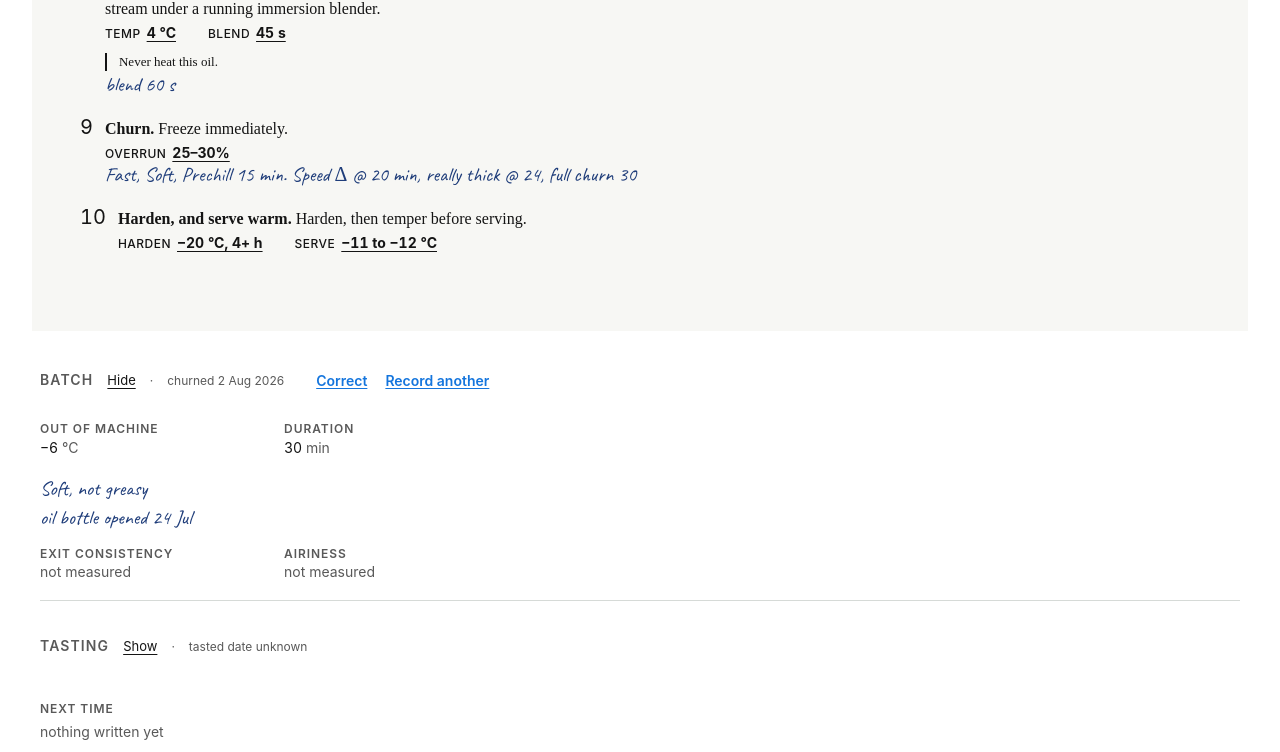
Scenario: the recipe page reads the catalog and hands it to the record pen (D-01, D-02) › Record another opens a pen whose Every recipe chips include a fifth problem the catalog holds
(page scrolled)
What coordinates should you click on to do the following:
click the button with class "batch-row__record"
I would click on:
 (437, 381)
Its box is [385,369,489,393].
(page scrolled)
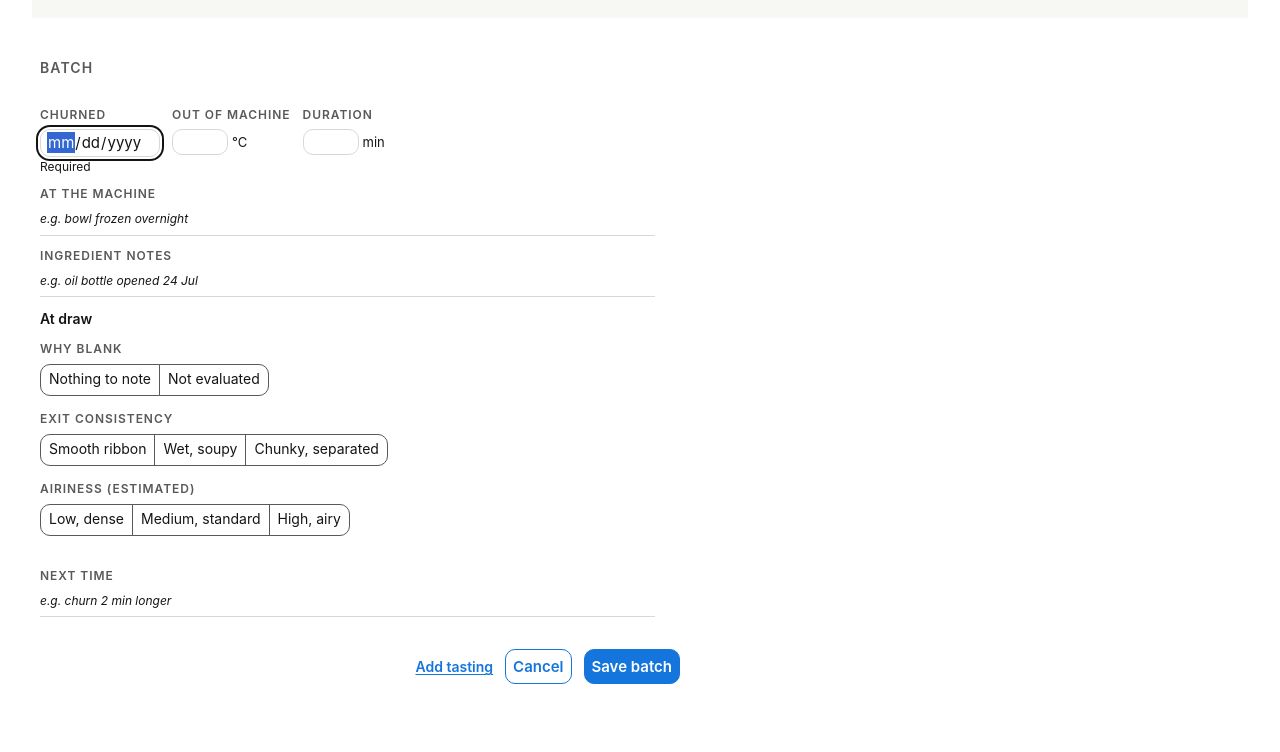
What coordinates should you click on to do the following:
click the button with class "save-ceremony__add-tasting" below "Medium, standard"
I would click on:
 (454, 667)
Its box is [416,655,493,679].
(page scrolled)
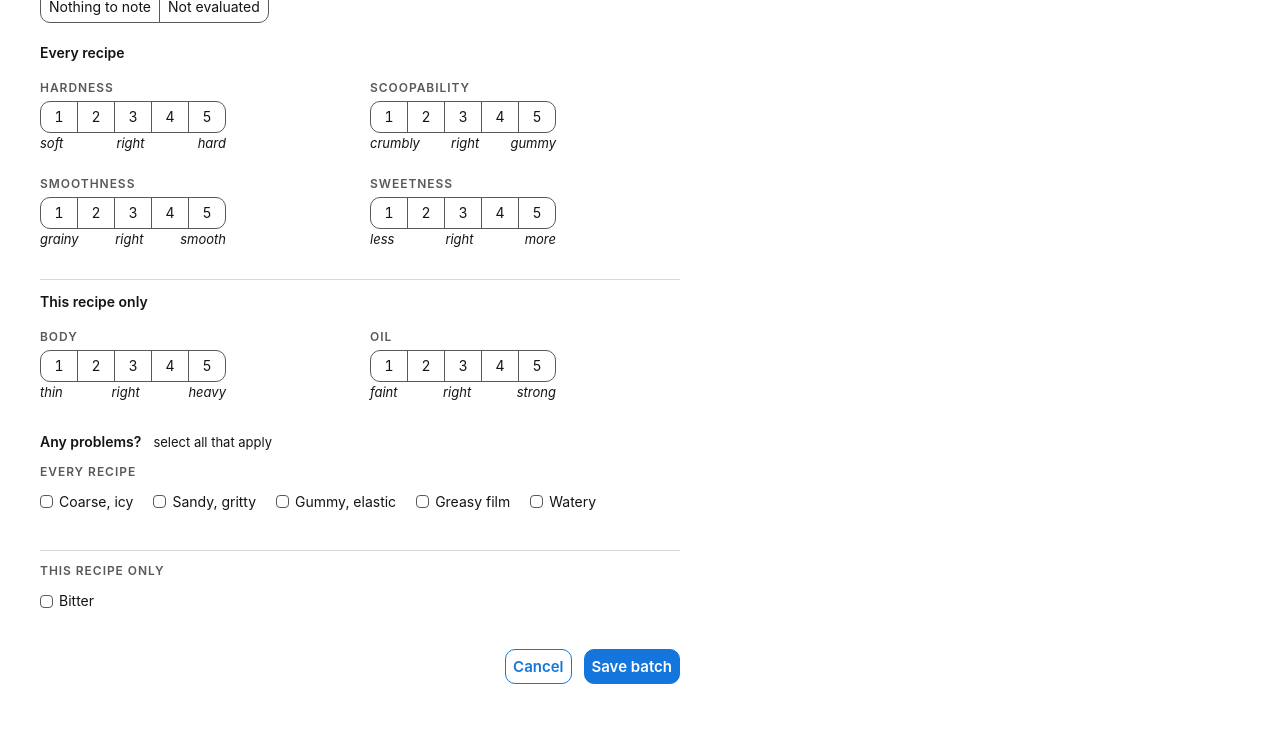
Now the button "Watery" is shown, box [530,486,596,518]
Now the button "Coarse, icy" is shown, box [40,486,133,518]
Now the button "Sandy, gritty" is shown, box [153,486,256,518]
